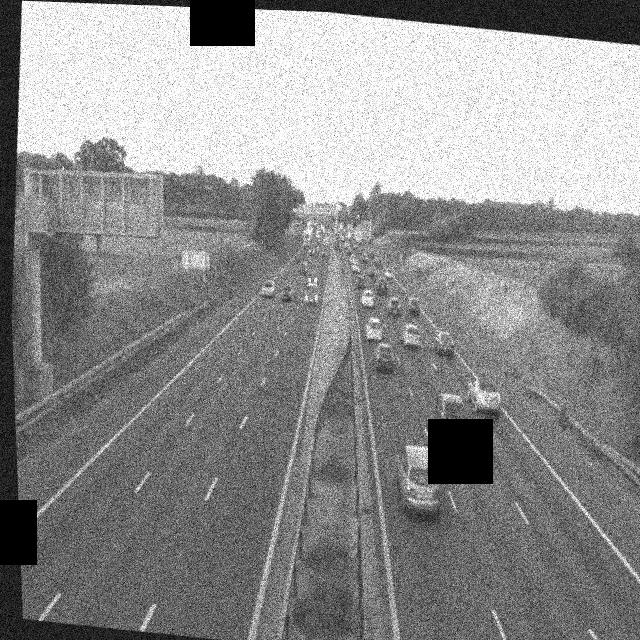car: (392, 443, 444, 517), (429, 392, 470, 443), (465, 376, 504, 414), (432, 330, 457, 358), (373, 342, 396, 372), (401, 321, 422, 349), (365, 317, 384, 342), (302, 278, 319, 303), (260, 277, 276, 299), (278, 282, 294, 303), (359, 285, 374, 306), (405, 296, 421, 315), (381, 279, 395, 297), (383, 267, 394, 284), (367, 264, 378, 278), (298, 260, 307, 275), (350, 259, 360, 272), (321, 247, 328, 257)
truck: (302, 223, 313, 248)
